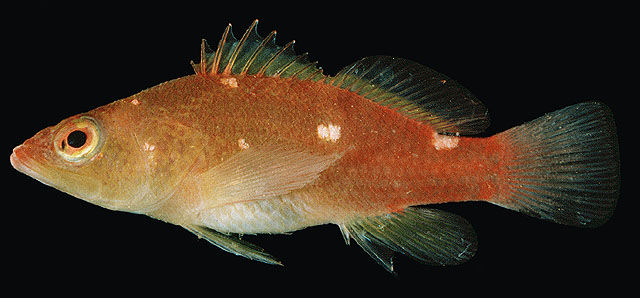fish: (9, 19, 617, 275)
